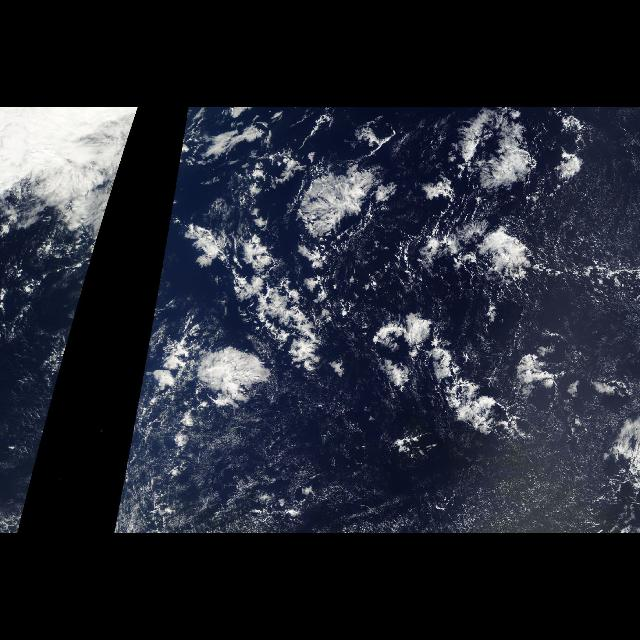Flower: (168, 160, 548, 450)
Sugar: (146, 413, 614, 533), (522, 113, 638, 415)
